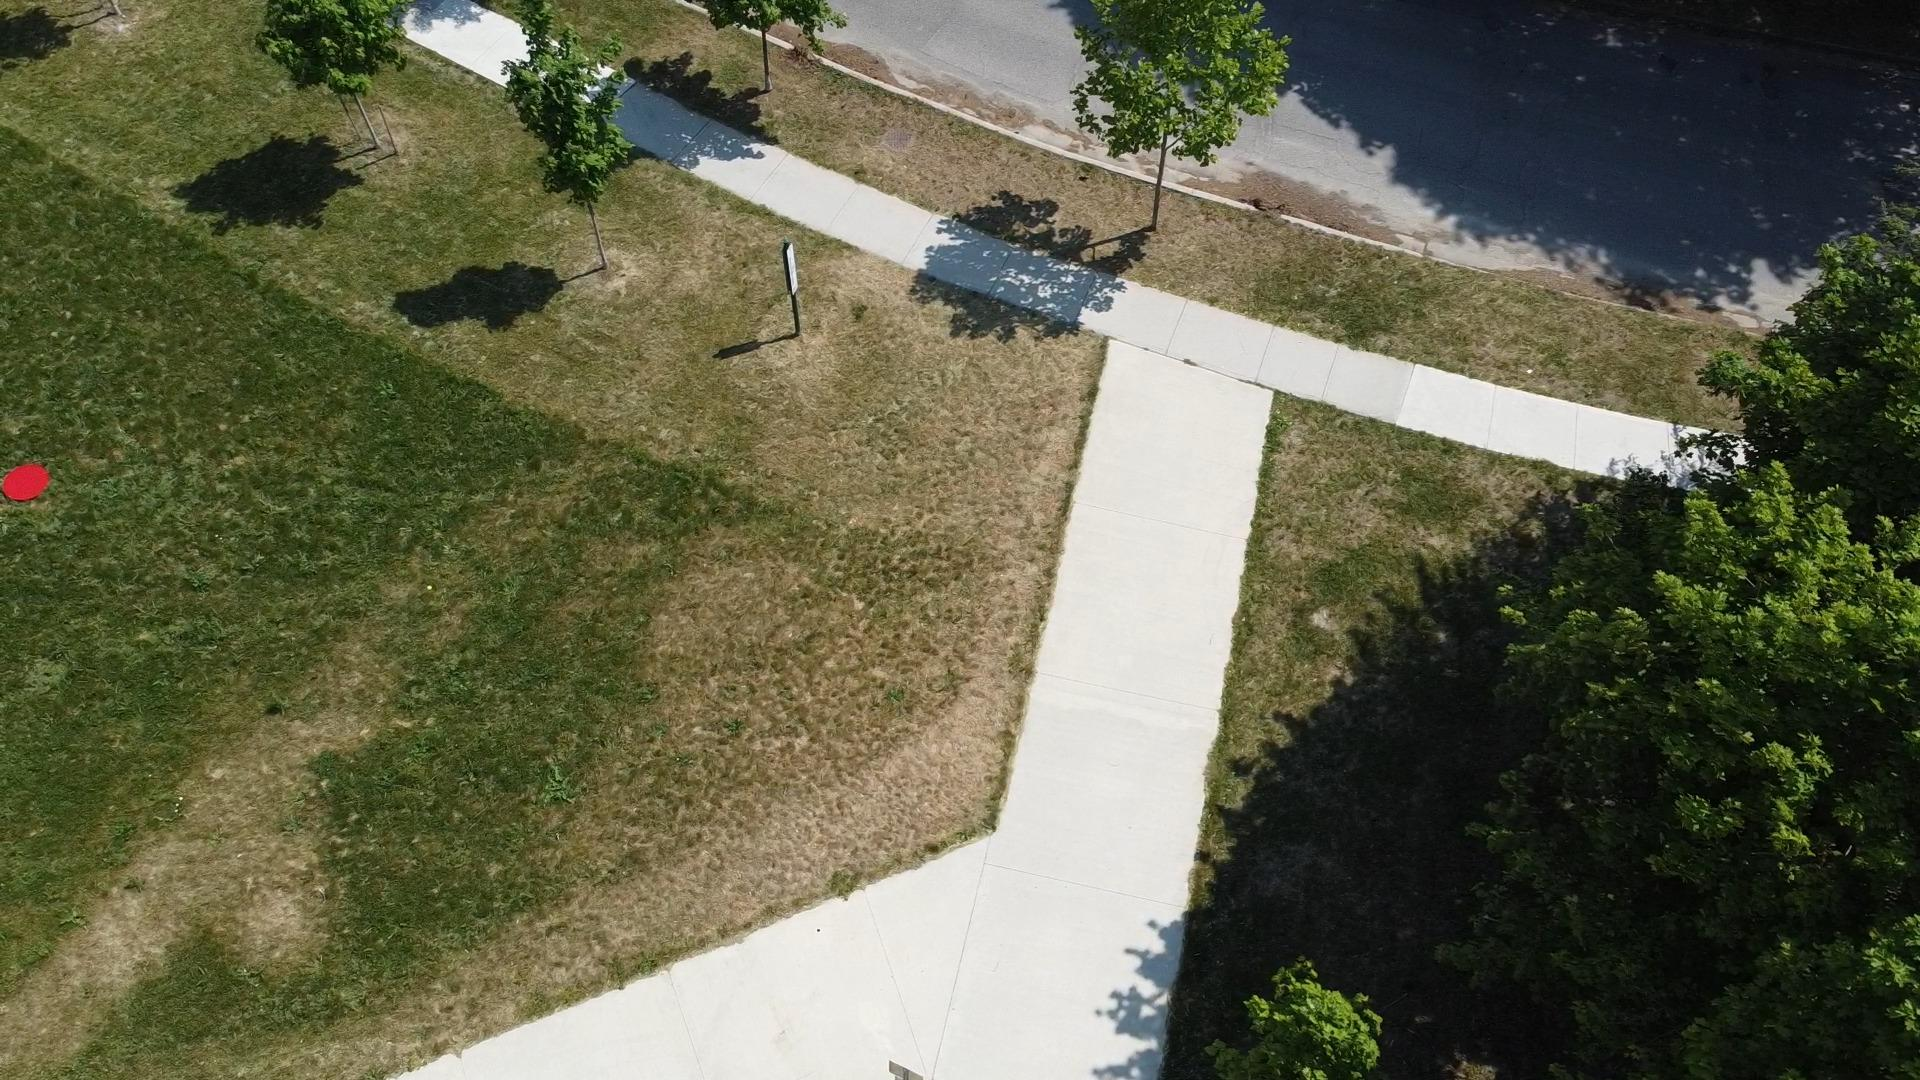Red: (1, 463, 51, 504)
